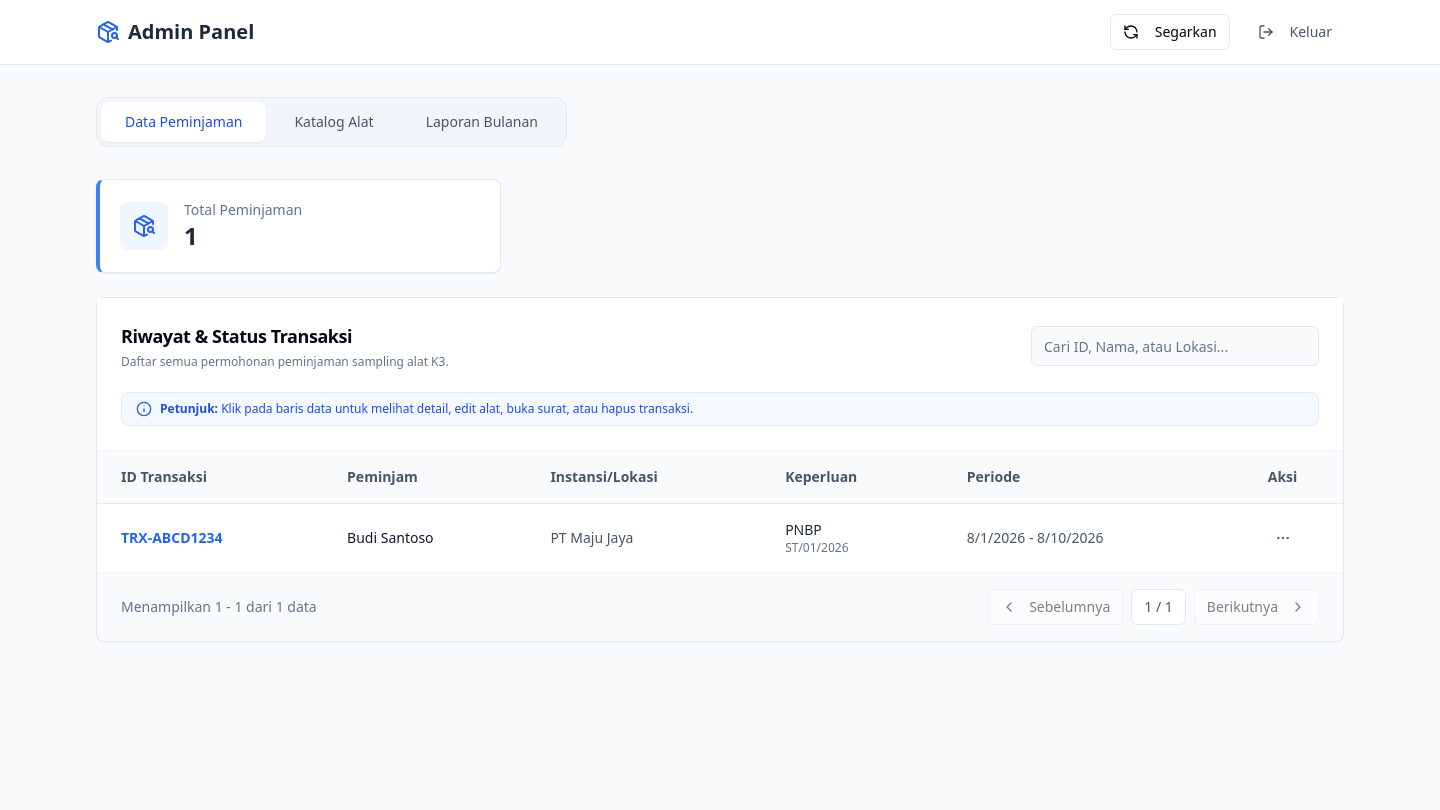
Scenario: AdminDashboard — Tab Transaksi & Fitur Aksi (Row-Click & ActionPanel) › harus membuka dialog Detail Peminjaman saat aksi Detail Peminjaman dipilih dari panel
# Klik baris
What coordinates should you click on to do the following:
click the text "TRX-ABCD1234"
I would click on:
 (210, 538)
Its box is x1=97 y1=504 x2=323 y2=572.
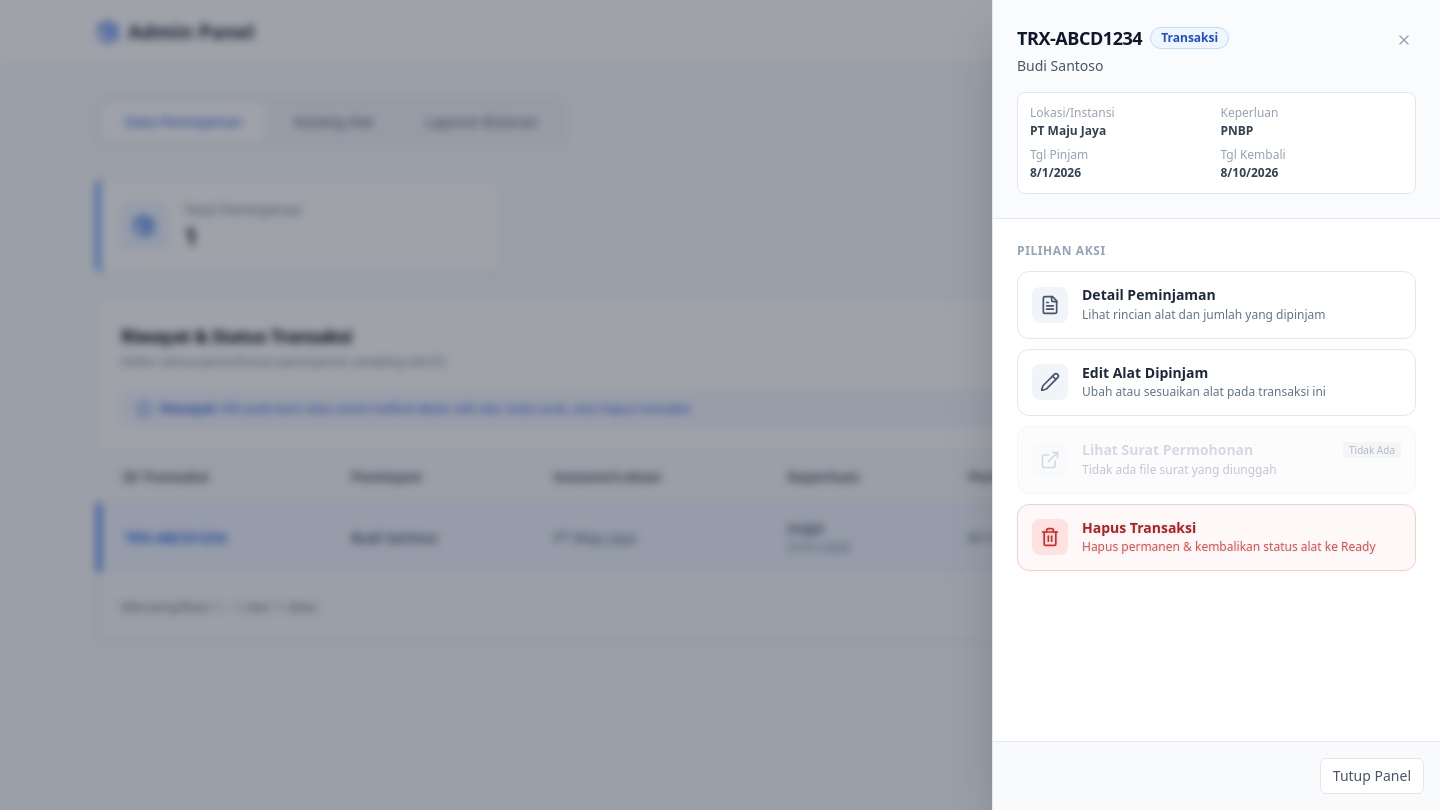
# Klik tombol aksi di ActionPanel
What coordinates should you click on to do the following:
click the button "Detail Peminjaman"
I would click on:
 (1216, 305)
Its box is x1=1017 y1=271 x2=1416 y2=338.
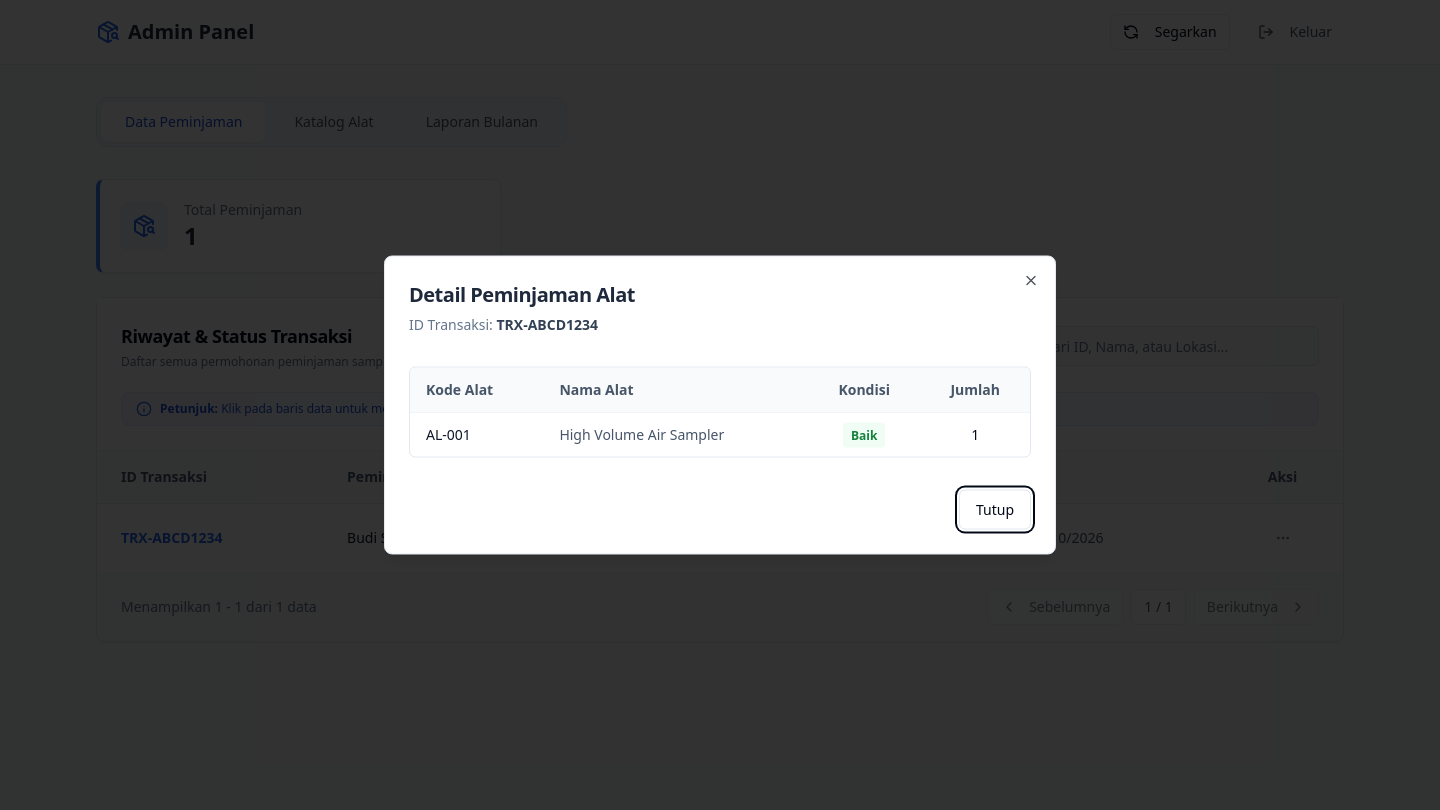
Result: the heading "Detail Peminjaman Alat" is shown at x1=409 y1=280 x2=635 y2=308
